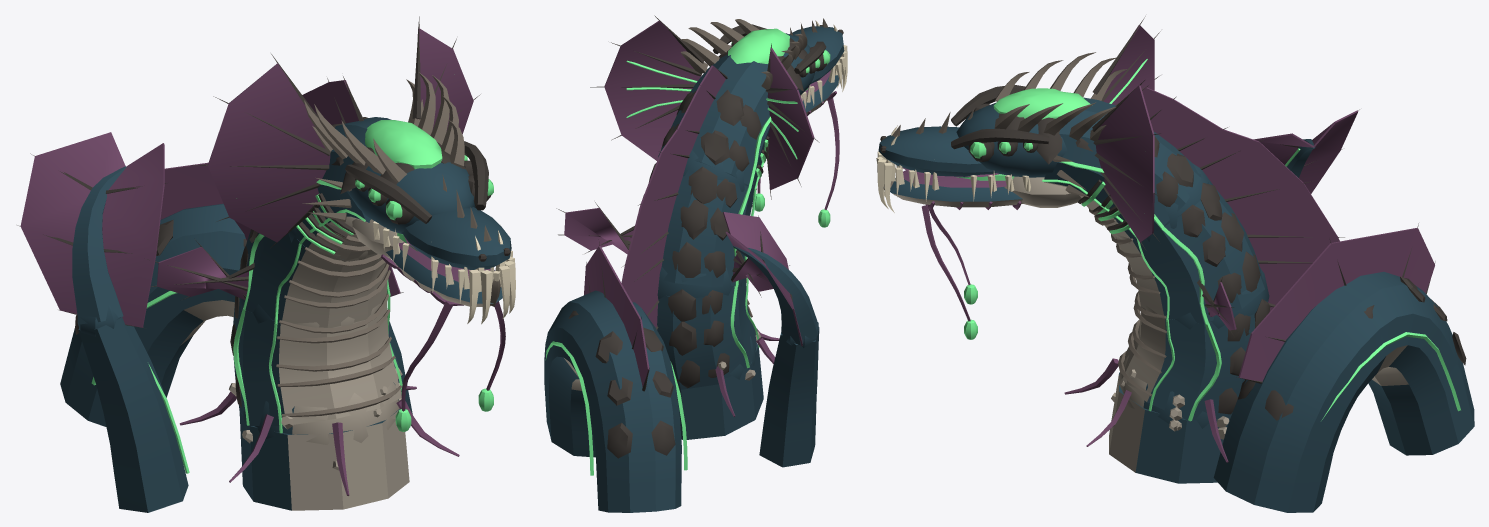
The model's file is Boss_Deluge.fbx.
The picture shows the model from 3 angles, left to right: view 1: azimuth 30°, elevation 25°; view 2: azimuth 150°, elevation 25°; view 3: azimuth 270°, elevation 25°; orthographic projection. The views are drawn at different scales.
Parts seen in each view (by area): view 1: Tail2, Head, Neck1, Hump, RightFrill, Coil, Tail1, Neck2, Neck3, Jaw, LeftFrill, RightFin (+6 smaller); view 2: Hump, Neck2, Neck3, Neck1, LeftFrill, Tail1, Head, Coil, Tail2, RightFrill, LeftFin, Crown (+7 smaller); view 3: Hump, Neck2, Head, Neck1, Neck3, Coil, LeftFrill, Jaw, Tail2, RightFrill, Crown, Neck3Glow (+4 smaller).
Part boxes in pixels (box(x1,y1,x2,y2)): Tail2: box(17, 132, 168, 336); Head: box(302, 72, 515, 324); Neck1: box(229, 220, 402, 444); Hump: box(60, 162, 412, 426); RightFrill: box(191, 54, 331, 248); Coil: box(179, 386, 459, 510); Tail1: box(78, 317, 188, 512); Neck2: box(239, 229, 391, 333); Neck3: box(288, 76, 391, 266); Jaw: box(375, 225, 506, 411); LeftFrill: box(412, 16, 480, 134); RightFin: box(146, 239, 254, 299); Hump: box(544, 239, 681, 512); Neck2: box(621, 151, 754, 299); Neck3: box(658, 54, 770, 194); Neck1: box(625, 262, 761, 390); LeftFrill: box(590, 15, 703, 160); Tail1: box(759, 327, 819, 467); Head: box(680, 18, 847, 108); Coil: box(677, 329, 779, 439); Tail2: box(723, 212, 818, 347); RightFrill: box(766, 43, 819, 199); LeftFin: box(556, 202, 634, 254); Crown: box(728, 28, 789, 63); Hump: box(1213, 223, 1474, 512); Neck2: box(1114, 138, 1344, 329); Head: box(876, 52, 1127, 212); Neck1: box(1116, 263, 1312, 428); Neck3: box(1044, 85, 1259, 244); Coil: box(1064, 358, 1229, 483); LeftFrill: box(1092, 80, 1161, 250); Jaw: box(877, 125, 1030, 321); Tail2: box(1253, 109, 1359, 193); RightFrill: box(1092, 16, 1160, 105); Crown: box(993, 88, 1090, 119); Neck3Glow: box(1042, 161, 1163, 238).
Size of the model in its own units: 12.87 by 16.29 by 20.76.
